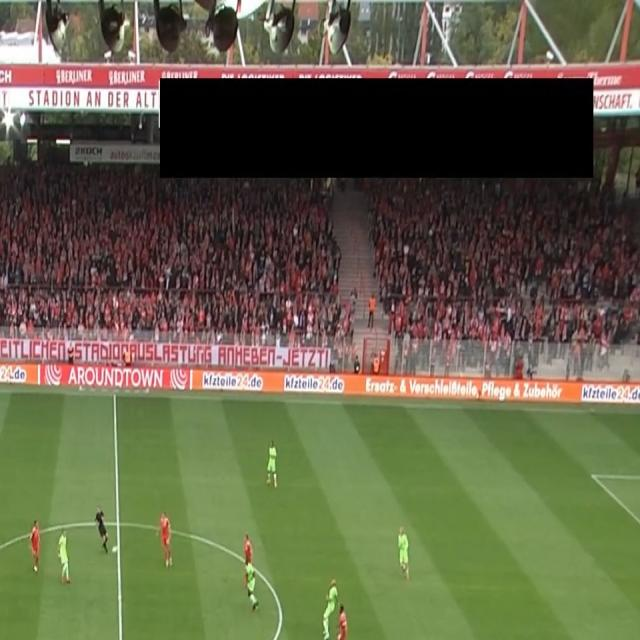ball: (112, 544, 119, 553)
